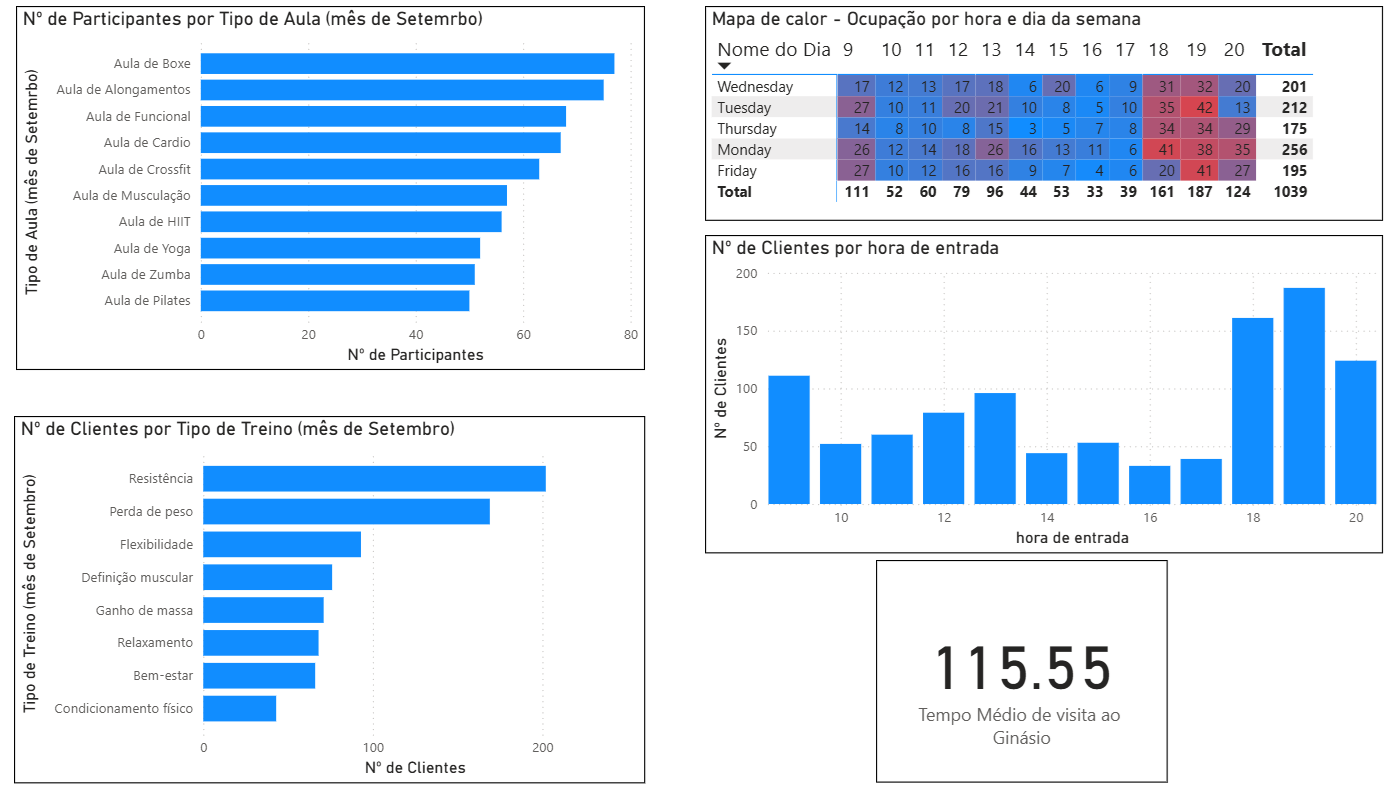

The page's visual inventory and layout, read from the dashboard file:
{"tool":"powerbi","page":{"name":"Utilização e Ocupação","canvas":[1280,720],"ordinal":0},"visuals":[{"type":"barChart","fields":{"Category":["easyfit_dw dim_aula.aula_nome"],"Y":["CountNonNull(easyfit_dw tf_cliente.fact_id)"]},"box":[21.6,12.6,565,327],"z":0},{"type":"barChart","fields":{"Category":["easyfit_dw dim_treino.treino_objetivo"],"Y":["CountNonNull(easyfit_dw tf_cliente.fact_id)"]},"box":[19.8,380.9,566.8,329.7],"z":1000},{"type":"card","fields":{"Values":["easyfit_dw dim_aula.Tempo Médio (min)"]},"box":[794,510.2,262.3,200.3],"z":2000},{"type":"pivotTable","title":"Mapa de calor - Ocupação por hora e dia da semana","fields":{"Rows":["easyfit_dw tf_cliente.Nome do Dia"],"Values":["CountNonNull(easyfit_dw tf_cliente.fact_id)"],"Columns":["easyfit_dw tf_cliente.hora_entrada"]},"box":[640.4,12.6,609,193.1],"z":3000},{"type":"clusteredColumnChart","fields":{"Category":["easyfit_dw tf_cliente.hora_entrada"],"Y":["CountNonNull(easyfit_dw tf_cliente.fact_id)"]},"box":[640.4,218.3,609,285.6],"z":4000}]}

Visuals, with their boxes in screenshot pixels (x1, y1, x2, y2), scaled from the page's 1280x720 canvas onto the 1397x789 screenshot:
barChart - easyfit_dw dim_aula.aula_nome x CountNonNull(easyfit_dw tf_cliente.fact_id): <bbox>24, 14, 640, 372</bbox>
barChart - easyfit_dw dim_treino.treino_objetivo x CountNonNull(easyfit_dw tf_cliente.fact_id): <bbox>22, 417, 640, 779</bbox>
card - easyfit_dw dim_aula.Tempo Médio (min): <bbox>867, 559, 1153, 779</bbox>
"Mapa de calor - Ocupação por hora e dia da semana" pivotTable: <bbox>699, 14, 1364, 225</bbox>
clusteredColumnChart - easyfit_dw tf_cliente.hora_entrada x CountNonNull(easyfit_dw tf_cliente.fact_id): <bbox>699, 239, 1364, 552</bbox>
